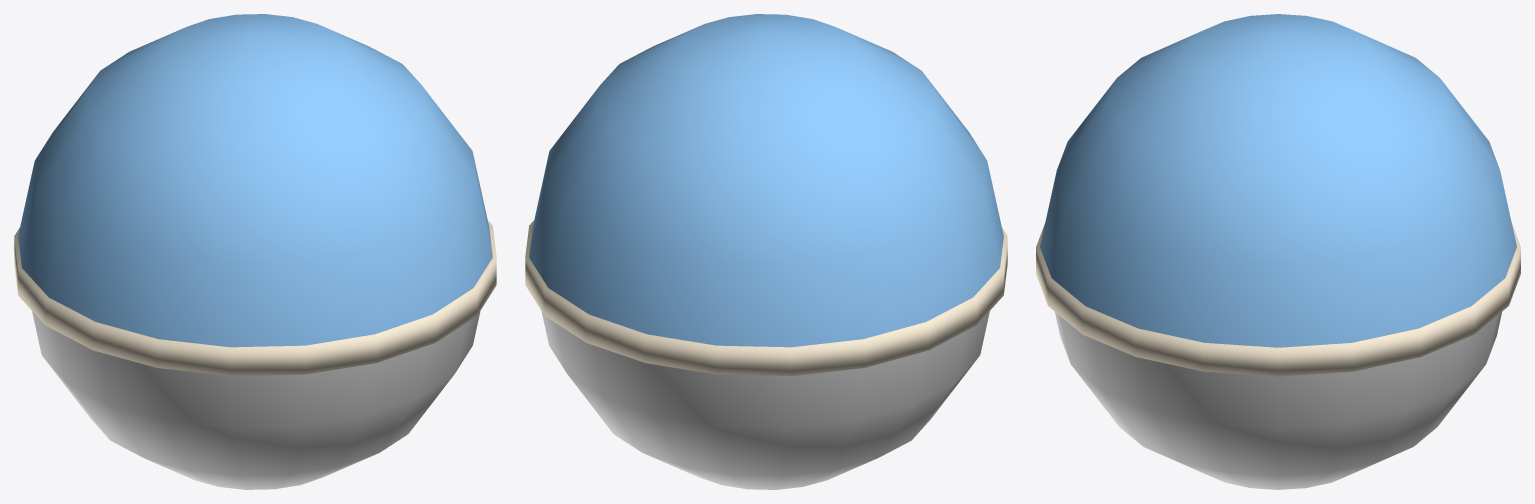
The picture shows the model from 3 angles, left to right: view 1: azimuth 30°, elevation 25°; view 2: azimuth 150°, elevation 25°; view 3: azimuth 270°, elevation 25°; orthographic projection.
Parts seen in each view (by area): view 1: capsule_top, capsule_bottom; view 2: capsule_top, capsule_bottom; view 3: capsule_top, capsule_bottom.
Part boxes in pixels (<box>): capsule_top: <box>18,14,492,347</box>; capsule_bottom: <box>14,220,496,489</box>; capsule_top: <box>529,14,1003,347</box>; capsule_bottom: <box>525,220,1007,489</box>; capsule_top: <box>1040,14,1516,347</box>; capsule_bottom: <box>1036,224,1520,489</box>.
Bounding box in the file's own units: 0.6464 × 0.6352 × 0.6464.
Materials: 2 (1 with a texture image).
